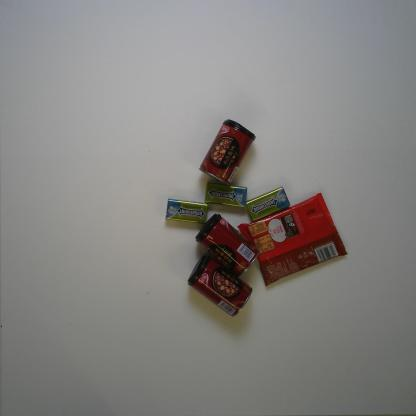Canned Food: (186, 254, 254, 318), (194, 213, 260, 278), (198, 118, 257, 186)
Dessert: (237, 191, 349, 287)
Gum: (245, 186, 292, 222), (164, 198, 209, 226), (204, 182, 248, 209)
